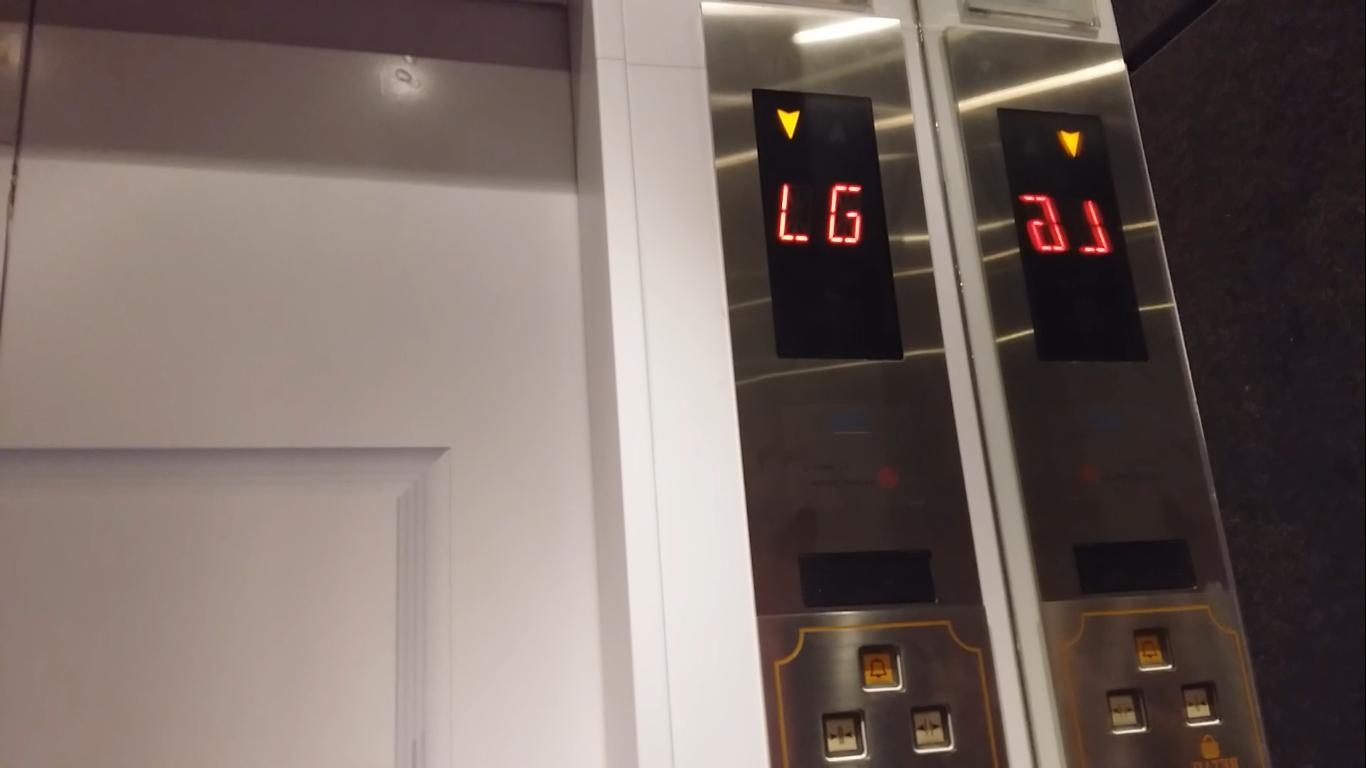alarm: (855, 643, 908, 694), (1128, 624, 1178, 673)
close: (818, 709, 871, 763), (1178, 681, 1225, 729)
led: (747, 82, 909, 364), (993, 102, 1153, 366)
open: (906, 704, 957, 754), (1102, 686, 1152, 737)
